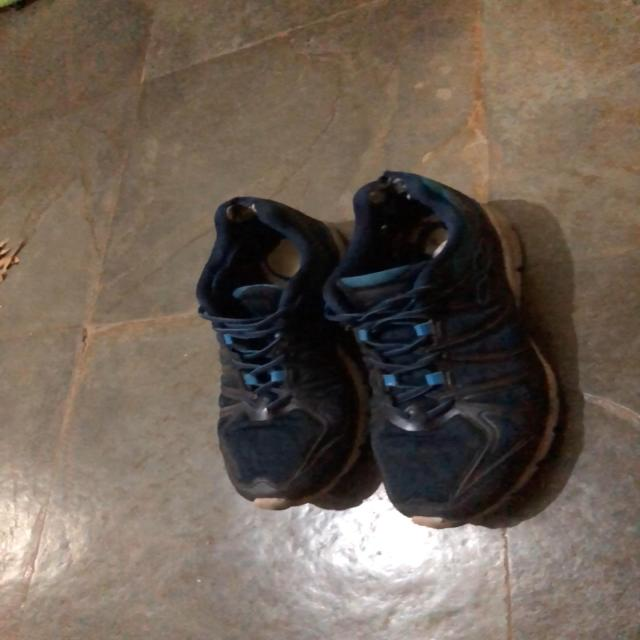shoe: (323, 171, 536, 529), (193, 197, 381, 514)
